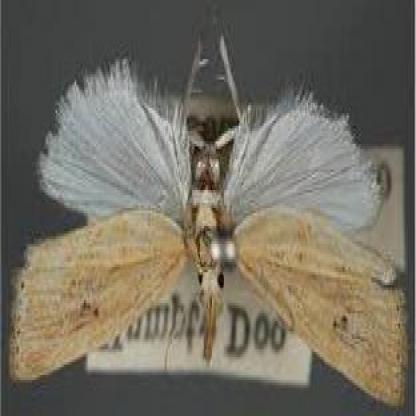stem-borer: (7, 22, 410, 407)
